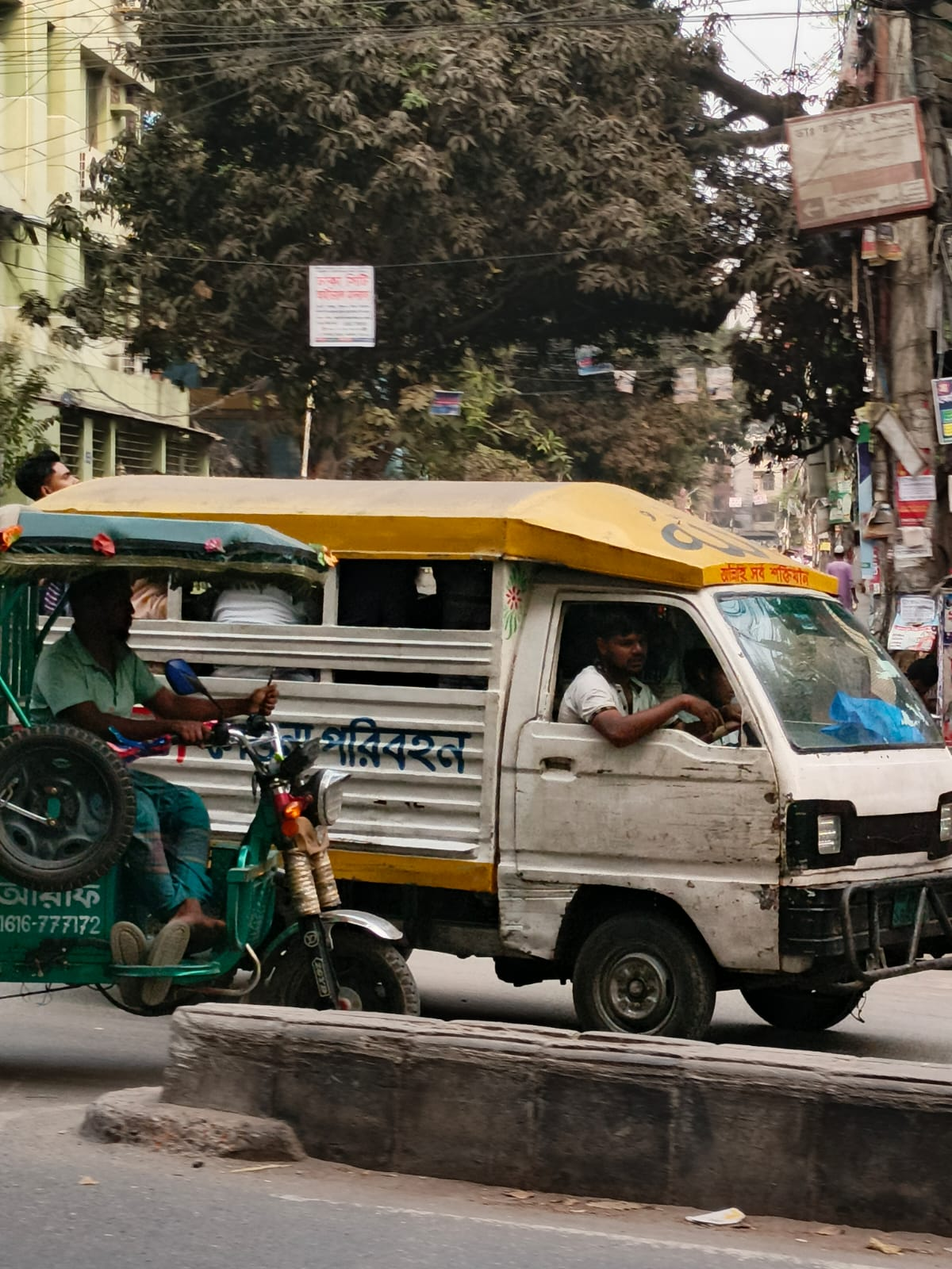Leguna: (16, 416, 952, 1058)
auto-ricksaw: (0, 463, 453, 1071)
